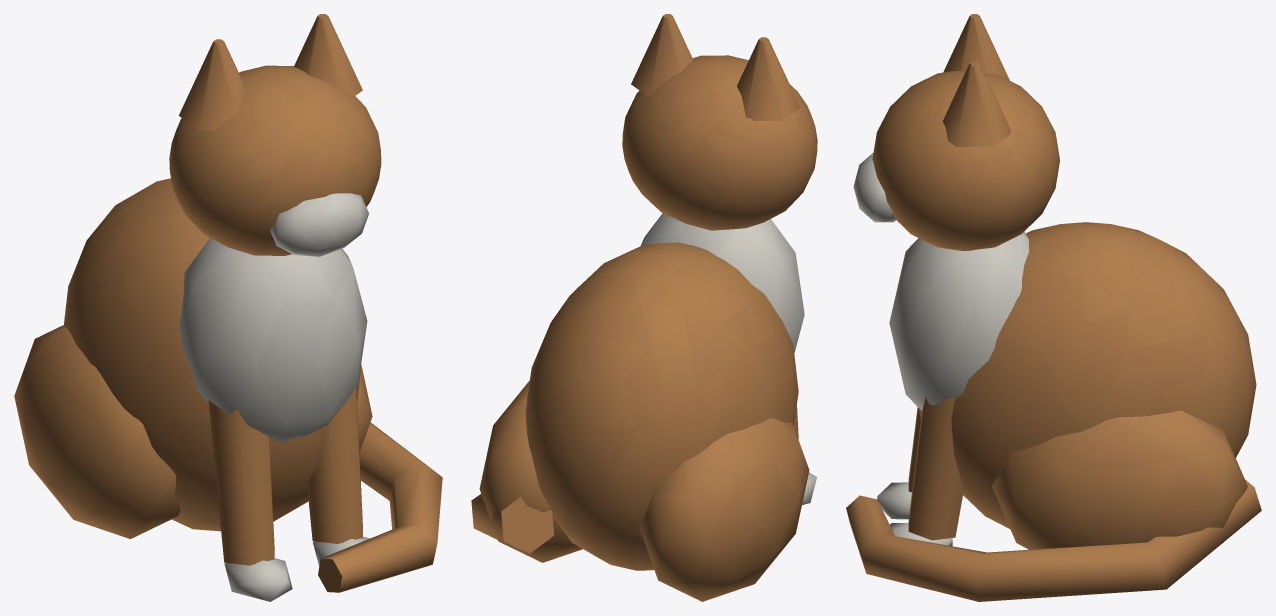
Rendered from animal_cat_01.glb.
3 views of the same model, side by side, from view 1: azimuth 30°, elevation 25°; view 2: azimuth 150°, elevation 25°; view 3: azimuth 270°, elevation 25° (orthographic). The views are drawn at different scales.
Visible parts, largest first — view 1: animal_cat_01; view 2: animal_cat_01; view 3: animal_cat_01.
Boxes of the visible parts, <box> form: animal_cat_01: <box>14,14,442,601</box>; animal_cat_01: <box>471,14,817,601</box>; animal_cat_01: <box>846,14,1261,601</box>.
Bounding box in the file's own units: 0.2027 × 0.323 × 0.2435.
